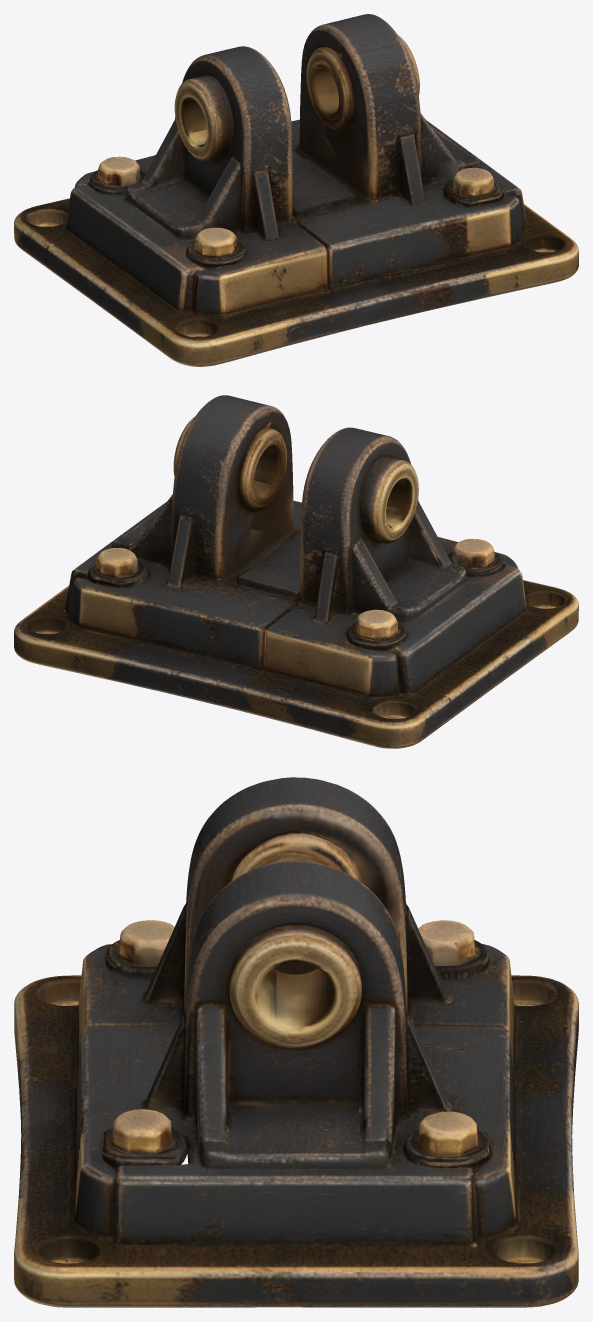
The model's file is level_handler.glb.
3 views of the same model, one above another, from view 1: azimuth 30°, elevation 25°; view 2: azimuth 150°, elevation 25°; view 3: azimuth 270°, elevation 25° (orthographic). The views are drawn at different scales.
Visible parts, largest first — view 1: Mesh_0; view 2: Mesh_0; view 3: Mesh_0.
Boxes of the visible parts, x1=… form: Mesh_0: x1=14, y1=14, x2=578, y2=366; Mesh_0: x1=14, y1=395, x2=578, y2=748; Mesh_0: x1=14, y1=777, x2=578, y2=1307.
Size of the model in its own units: 0.9115 by 0.4695 by 0.7283.
Materials: 1 (1 with a texture image).
